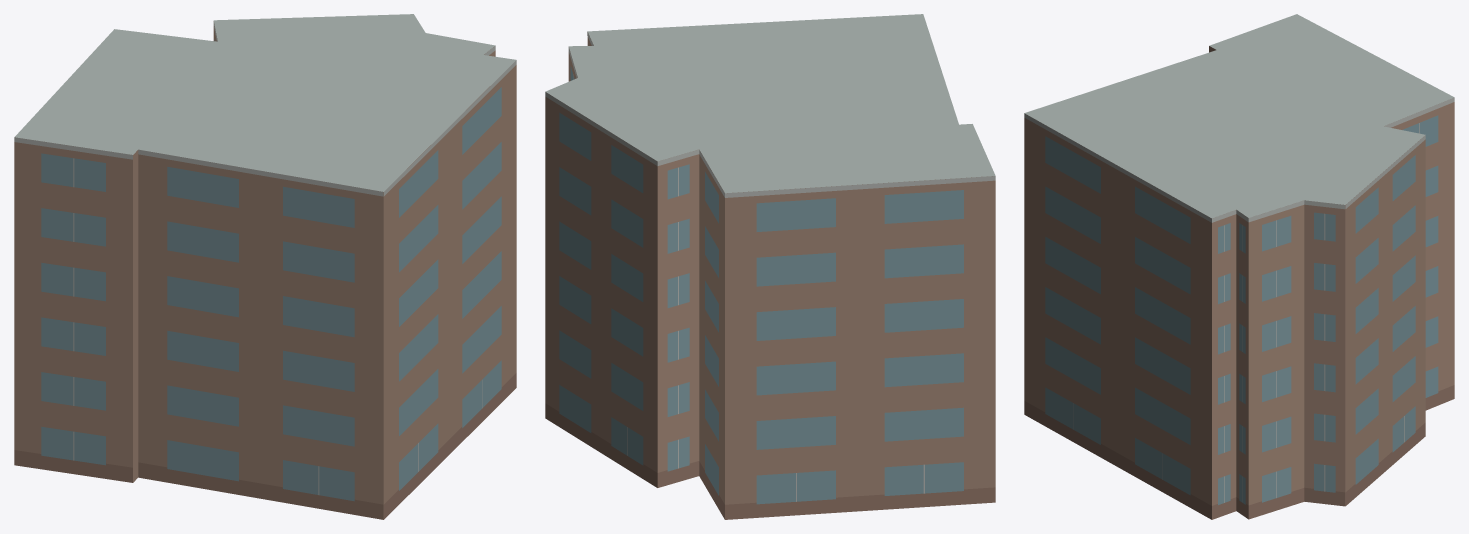
Rendered from survey-upis-32579085.glb.
The picture shows the model from 3 angles, left to right: view 1: azimuth 30°, elevation 25°; view 2: azimuth 150°, elevation 25°; view 3: azimuth 270°, elevation 25°; orthographic projection. The views are drawn at different scales.
Parts seen in each view (by area): view 1: survey-upis-32579085.tmp; view 2: survey-upis-32579085.tmp; view 3: survey-upis-32579085.tmp.
Boxes of the visible parts, <box> form: survey-upis-32579085.tmp: <box>14,14,516,519</box>; survey-upis-32579085.tmp: <box>545,14,995,519</box>; survey-upis-32579085.tmp: <box>1024,14,1454,519</box>.
Bounding box in the file's own units: 24.45 × 16.8 × 21.75.
